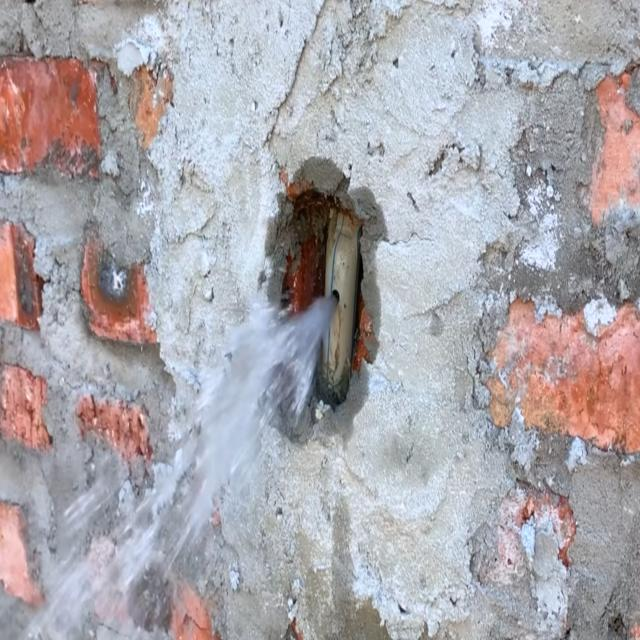pipe burst: (42, 290, 343, 638)
